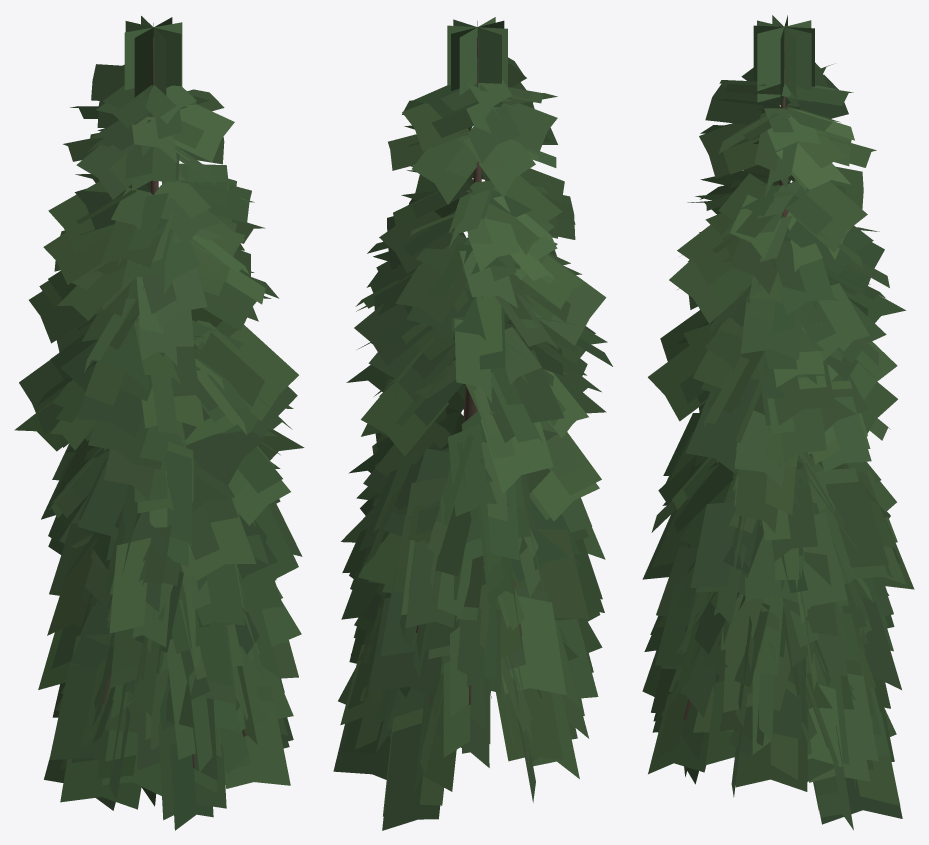
Rendered from conifer.spruce.alpine.glb.
3 views of the same model, side by side, from view 1: azimuth 30°, elevation 25°; view 2: azimuth 150°, elevation 25°; view 3: azimuth 270°, elevation 25° (orthographic).
Visible parts, largest first — view 1: conifer_spruce_alpine; view 2: conifer_spruce_alpine; view 3: conifer_spruce_alpine.
Part boxes in pixels (x1,y1,x2,y2): conifer_spruce_alpine: (14, 16, 304, 830); conifer_spruce_alpine: (333, 17, 612, 830); conifer_spruce_alpine: (642, 15, 914, 830).
Size of what is drawn, in the model's own units: 3.72 by 11.44 by 3.58.
